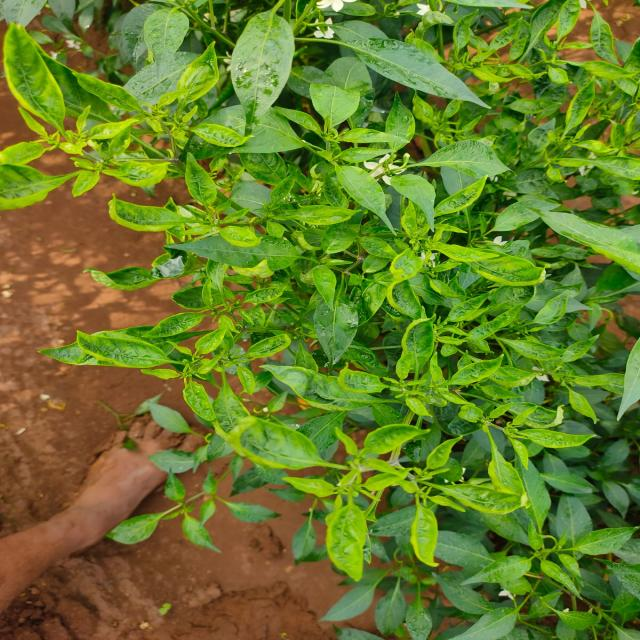Moko: (188, 388, 528, 566), (0, 312, 327, 488), (0, 8, 252, 208), (322, 179, 535, 409), (68, 154, 348, 293), (473, 35, 640, 229)
